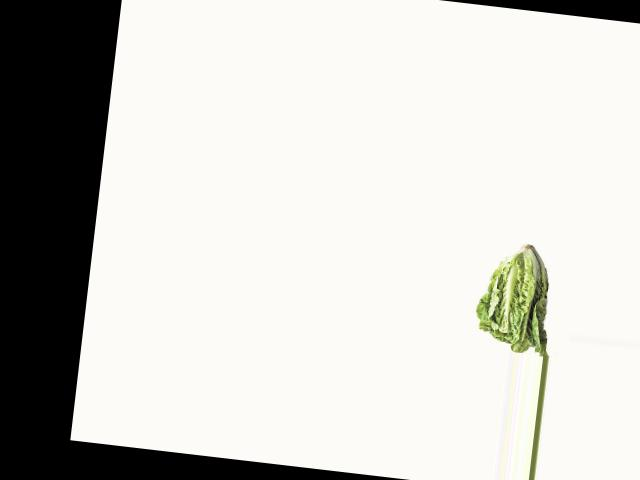lettuce: (468, 241, 557, 356)
